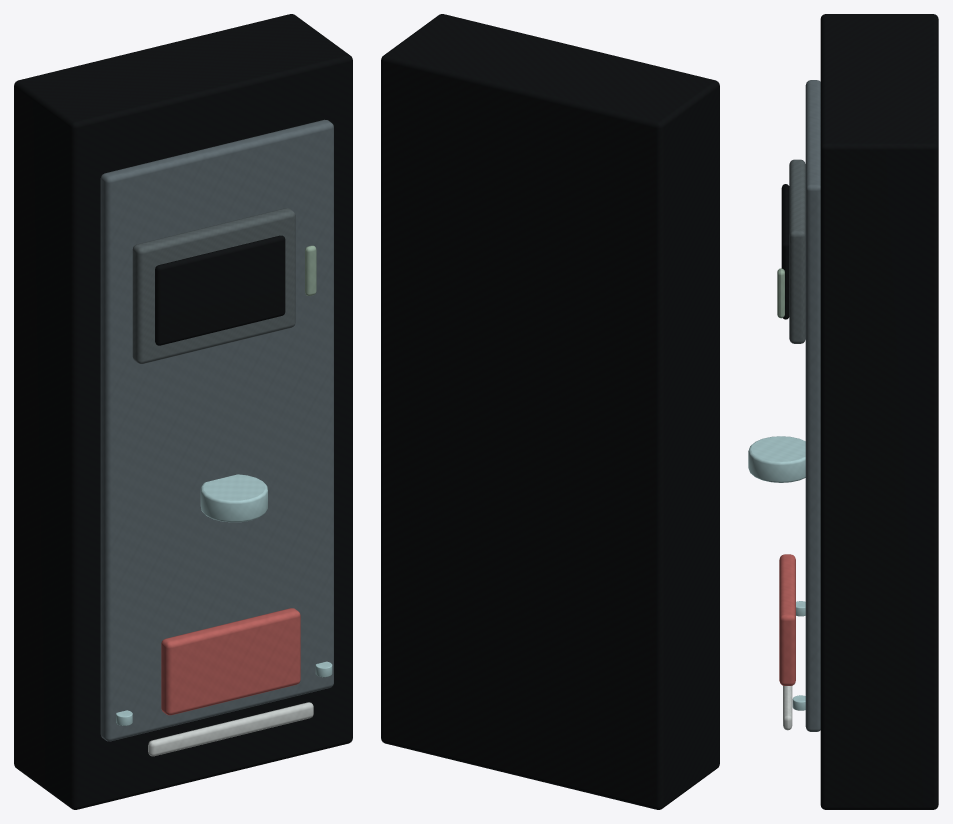
Rendered from AirlockControlPanel.fbx.
The picture shows the model from 3 angles, left to right: view 1: azimuth 30°, elevation 25°; view 2: azimuth 150°, elevation 25°; view 3: azimuth 270°, elevation 25°; orthographic projection. The views are drawn at different scales.
Visible parts, largest first — view 1: AirlockControlPanel_Mesh; view 2: AirlockControlPanel_Mesh; view 3: AirlockControlPanel_Mesh.
Boxes of the visible parts, left/top/right/bottom form: AirlockControlPanel_Mesh: left=14, top=14, right=352, bottom=809; AirlockControlPanel_Mesh: left=381, top=14, right=719, bottom=809; AirlockControlPanel_Mesh: left=748, top=14, right=938, bottom=809.
Size of the model in its own units: 48 by 112 by 29.
